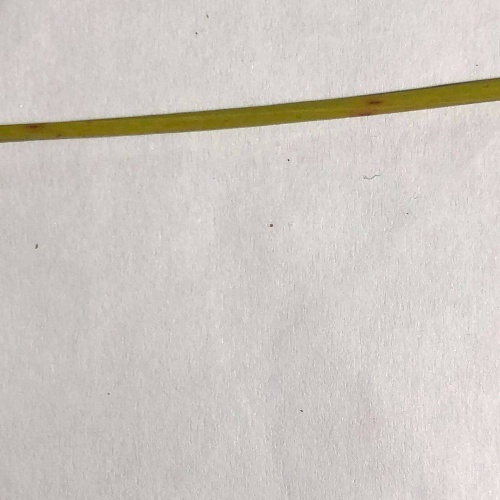Bercak Coklat: (363, 97, 386, 107)
